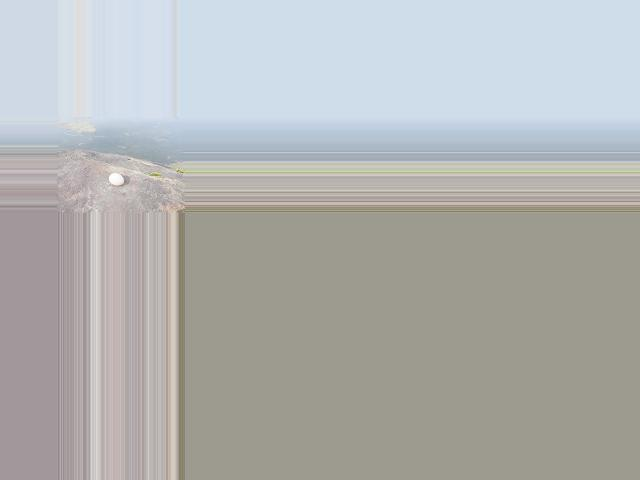egg: (107, 173, 123, 185)
